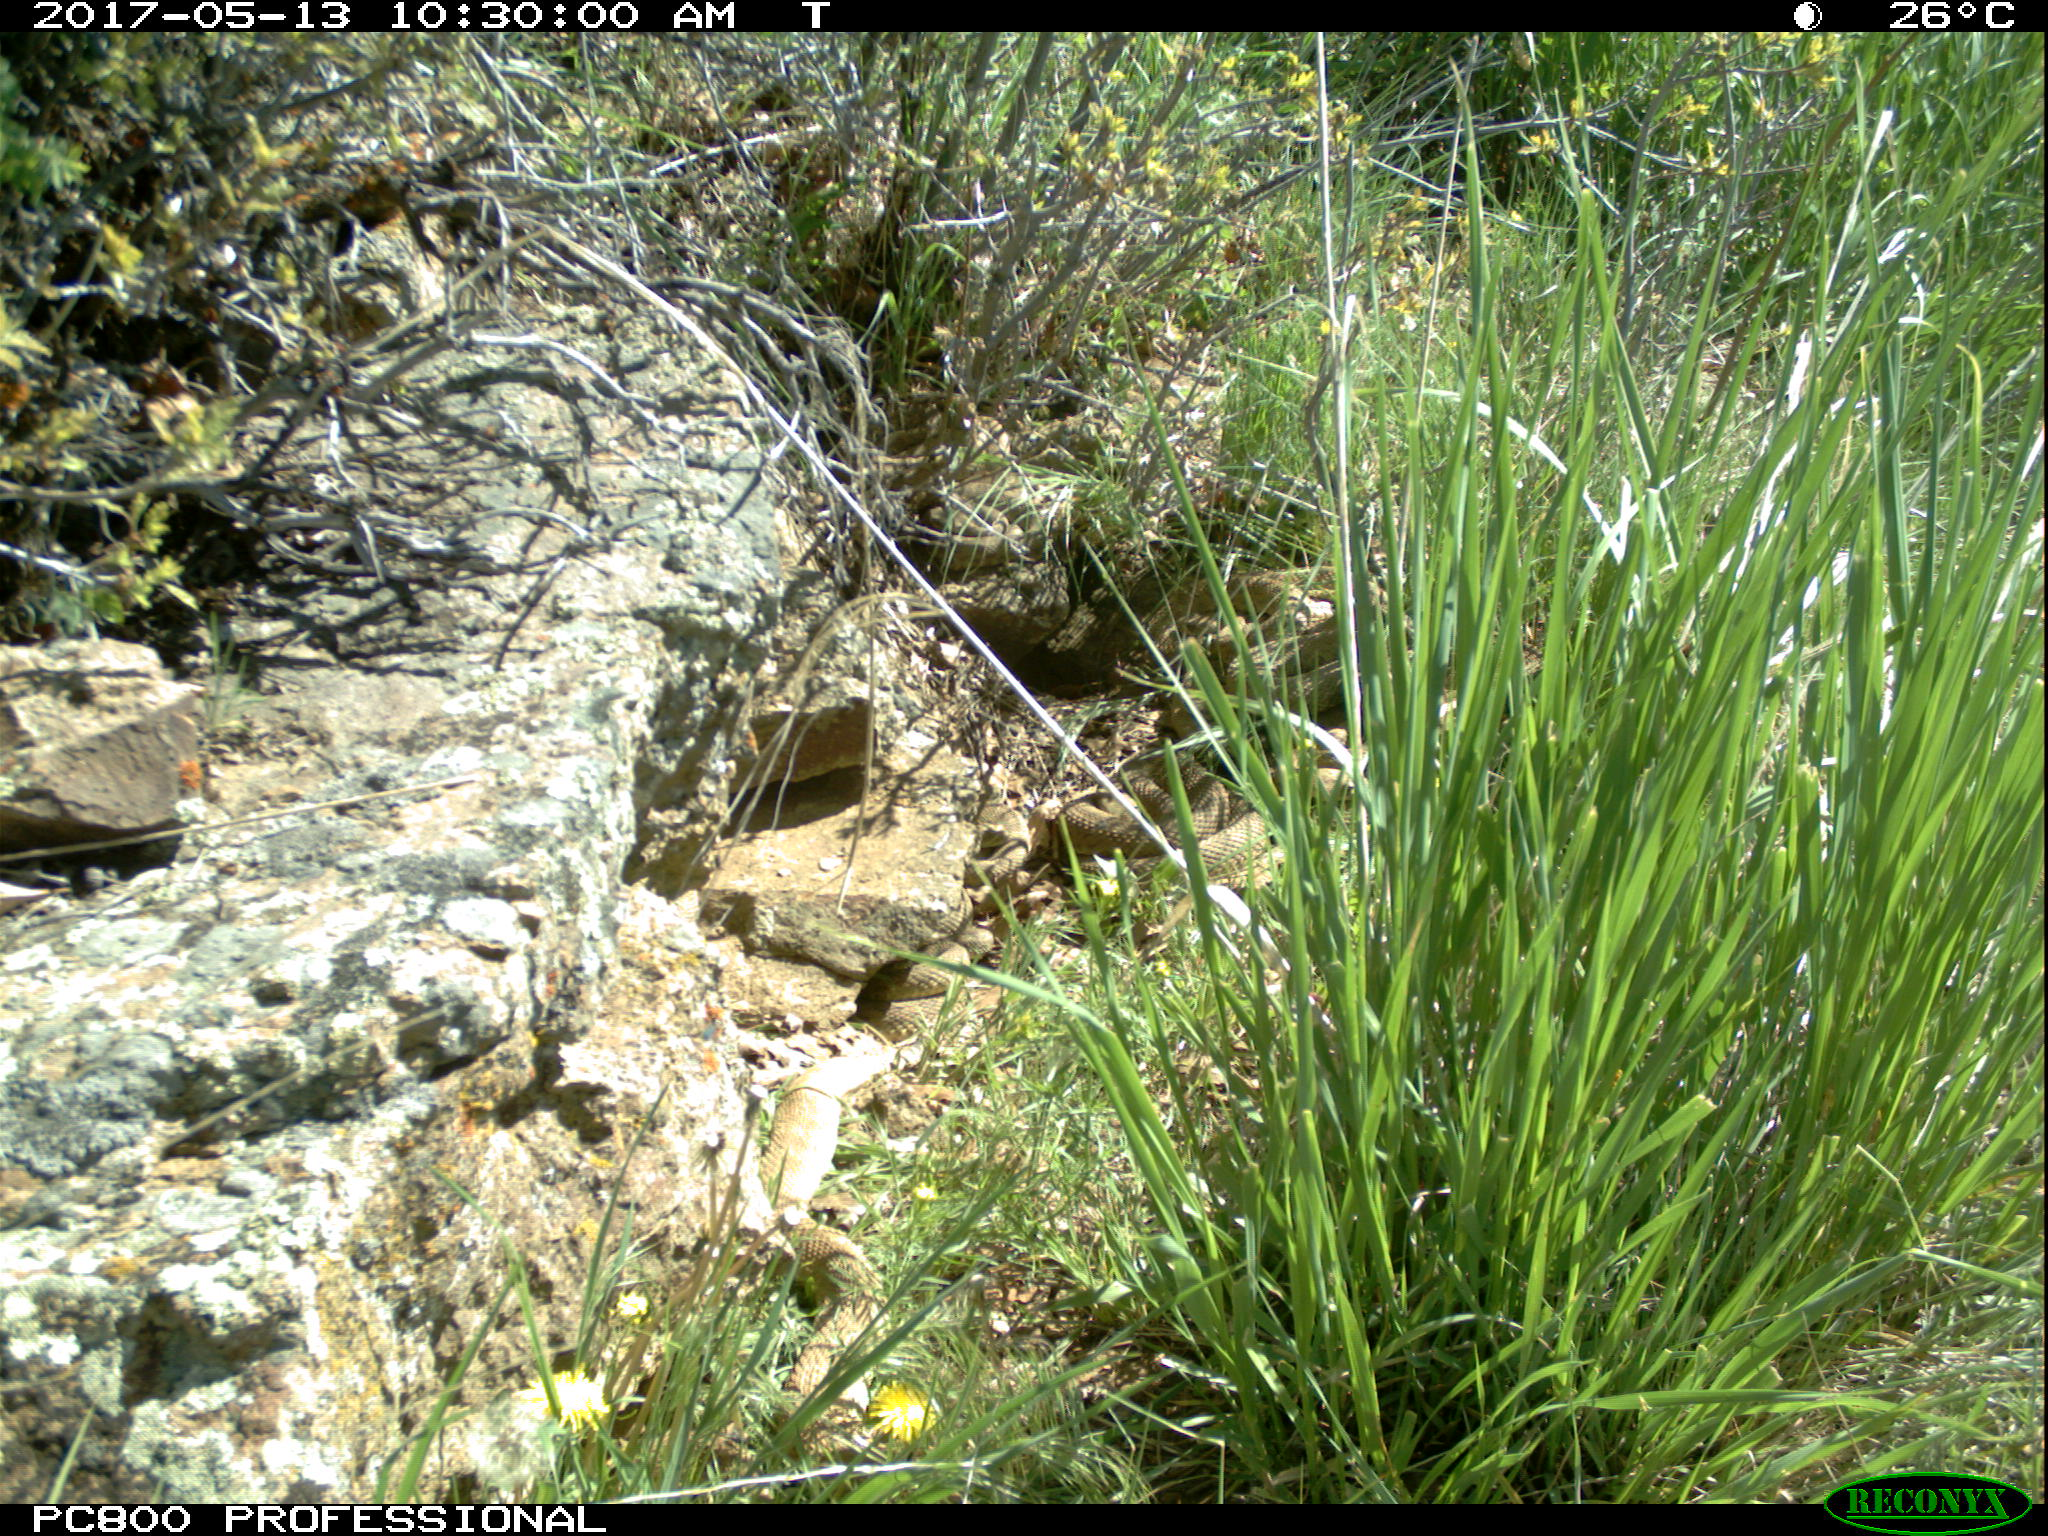snake: (763, 1031, 869, 1430), (948, 476, 1068, 637), (1042, 758, 1224, 849), (880, 904, 1000, 999), (1192, 805, 1287, 895), (1226, 574, 1350, 639)
